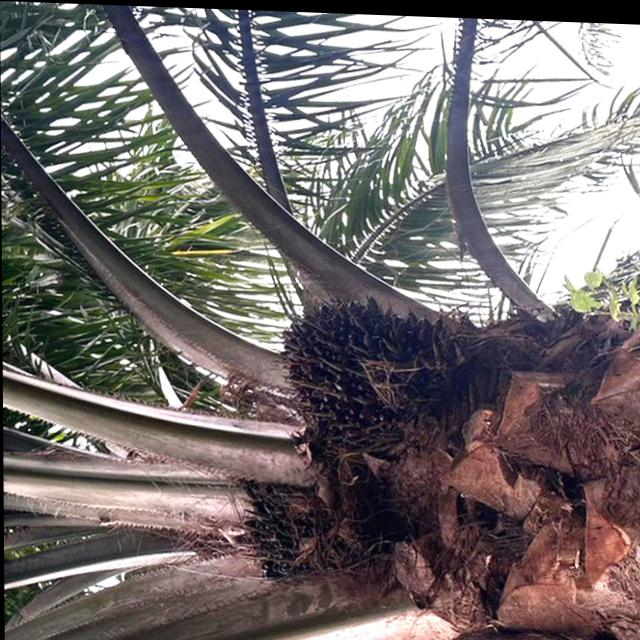ripe: (265, 274, 470, 466)
